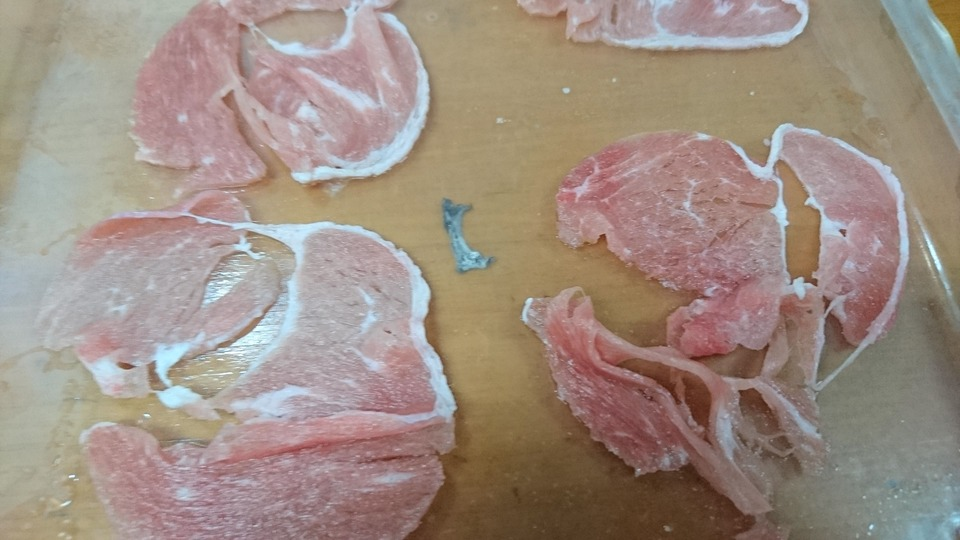restructured meat: (512, 103, 882, 498), (62, 208, 459, 528), (127, 1, 443, 193), (523, 3, 824, 53)
